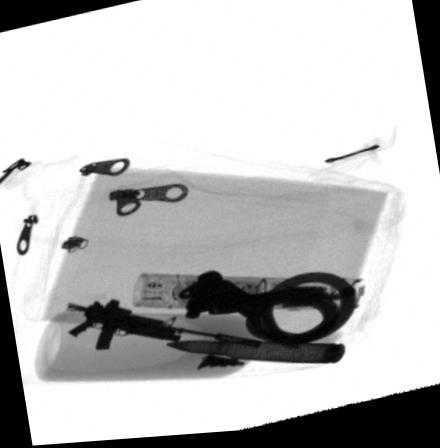Baton: (131, 275, 367, 315)
Bullet: (157, 343, 346, 368)
Gun: (65, 299, 261, 351)
HandCuffs: (178, 272, 357, 346)
